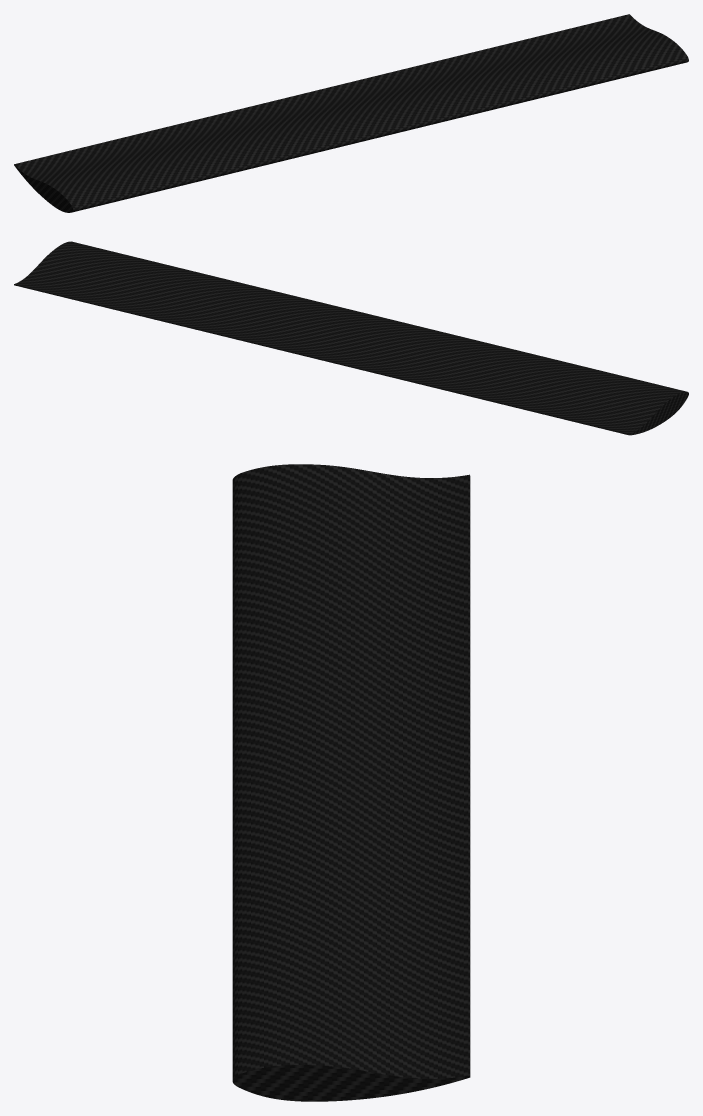
The model's file is wing13.glb.
3 renders of one model, top to bottom at view 1: azimuth 30°, elevation 25°; view 2: azimuth 150°, elevation 25°; view 3: azimuth 270°, elevation 25°, orthographic. The views are drawn at different scales.
Parts seen in each view (by area): view 1: Wing web; view 2: Wing web; view 3: Wing web.
Part boxes in pixels (<box>): Wing web: <box>14,14,688,212</box>; Wing web: <box>14,241,688,435</box>; Wing web: <box>232,464,470,1101</box>.
Size of the model in its own units: 180 by 5.13 by 30.1.
Materials: 1 (1 with a texture image).
